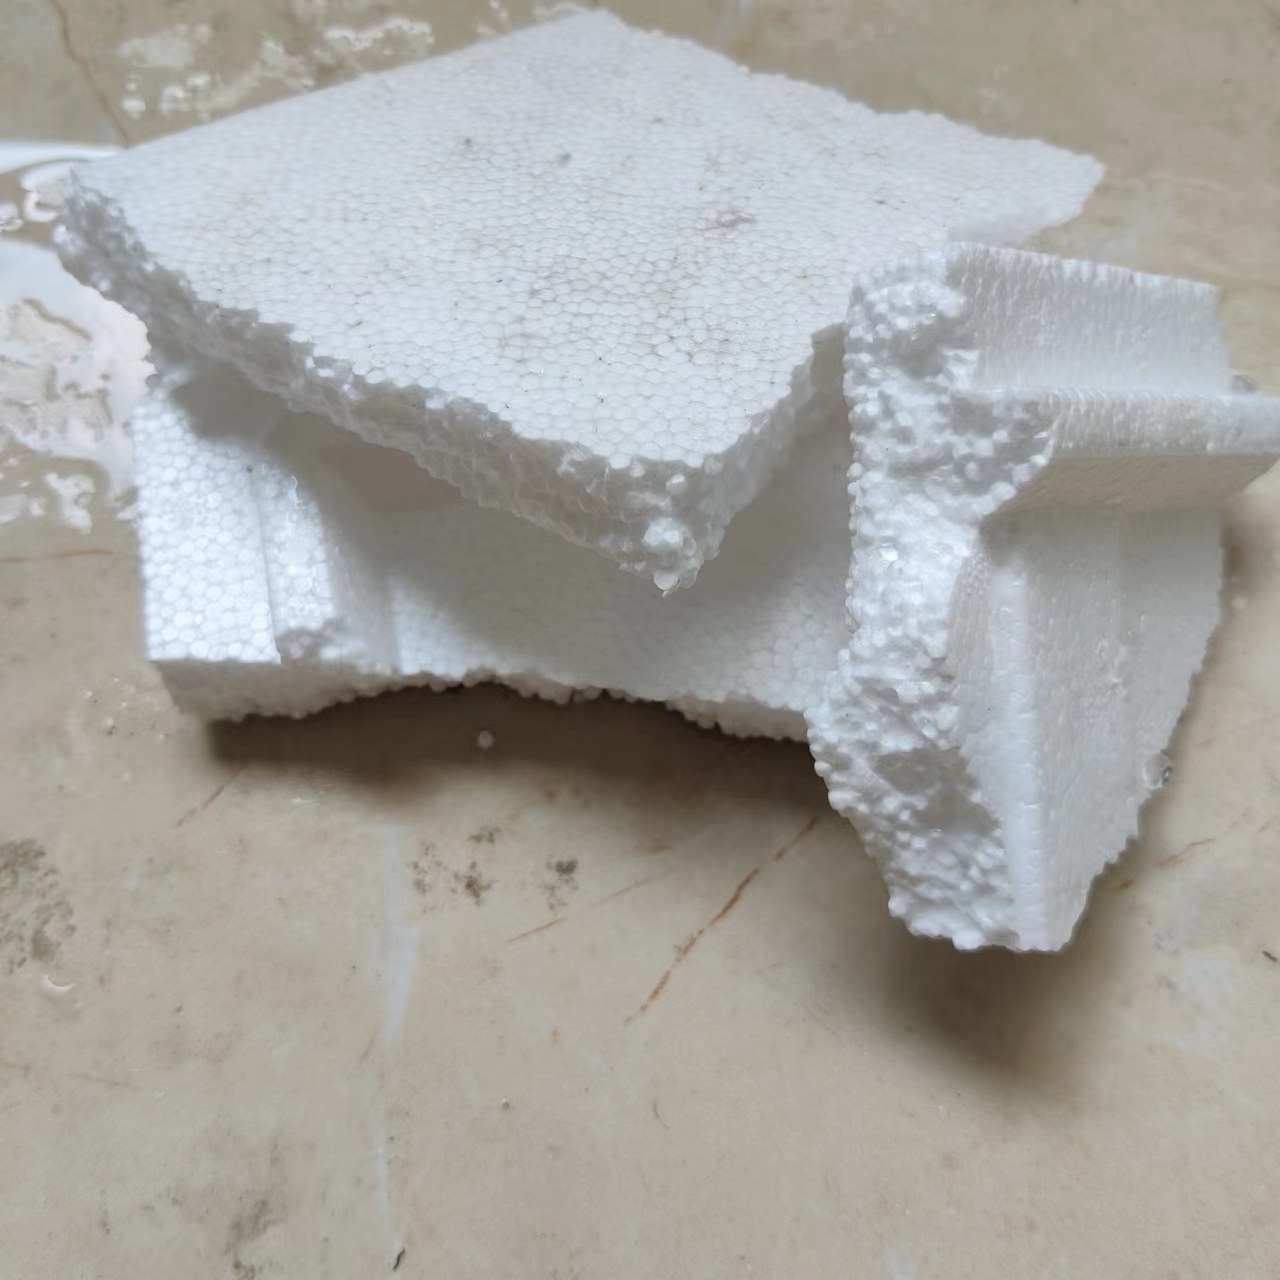5/可回收垃圾/泡沫: (50, 7, 1109, 595), (803, 248, 1280, 956), (131, 329, 849, 743)
